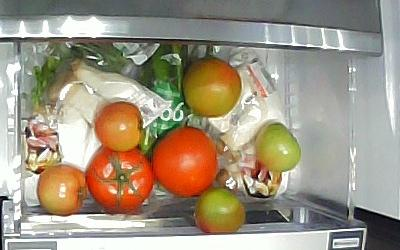tomato: (149, 125, 217, 197), (83, 143, 154, 211), (179, 54, 242, 117), (93, 100, 144, 151), (36, 163, 87, 214), (193, 185, 245, 233), (253, 121, 301, 172)
